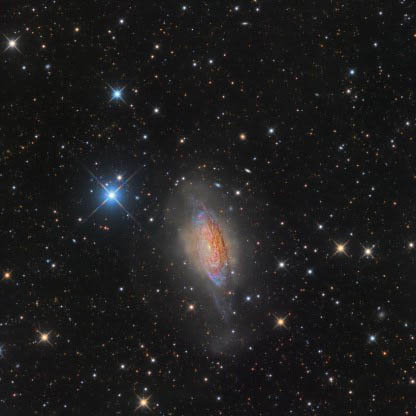NGC 3521: (117, 133, 290, 319)
